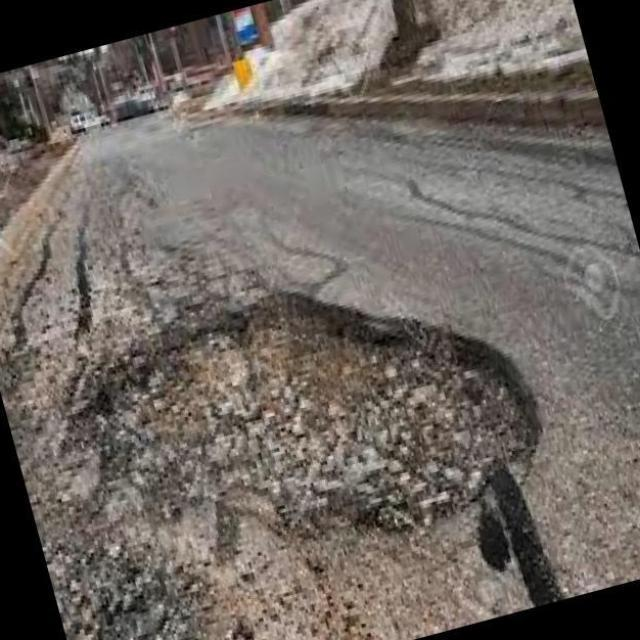Pathole: (100, 288, 536, 552)
